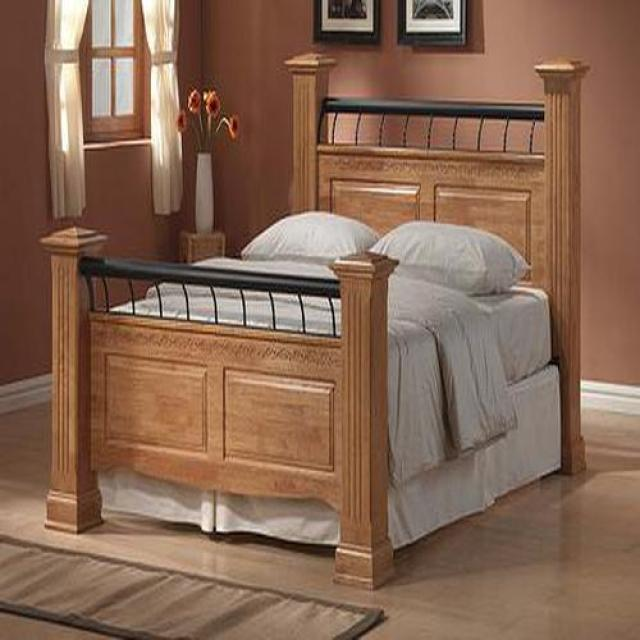bed: (38, 54, 593, 552)
